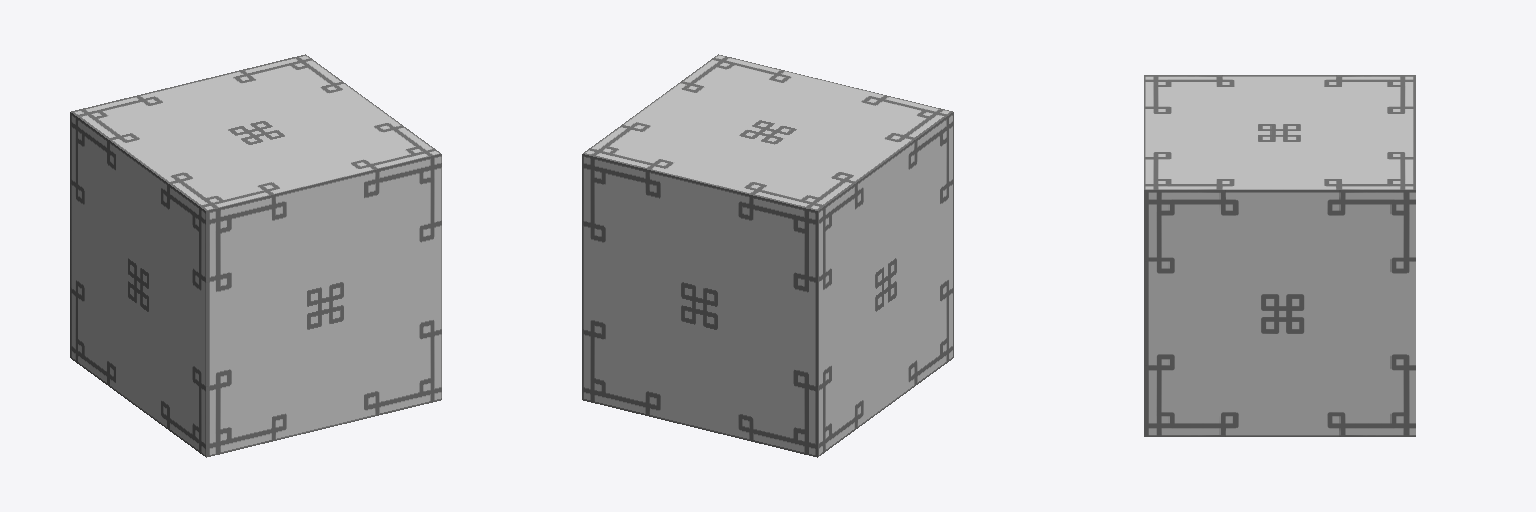
3 renders of one model, left to right at view 1: azimuth 30°, elevation 25°; view 2: azimuth 150°, elevation 25°; view 3: azimuth 270°, elevation 25°, orthographic.
Parts seen in each view (by area): view 1: Cube; view 2: Cube; view 3: Cube.
Boxes of the visible parts, box(x1,y1,x2,y2) form: Cube: box(70, 54, 441, 457); Cube: box(582, 54, 953, 457); Cube: box(1144, 75, 1415, 436).
Bounding box in the file's own units: 1 × 1 × 1.
Materials: 1 (1 with a texture image).